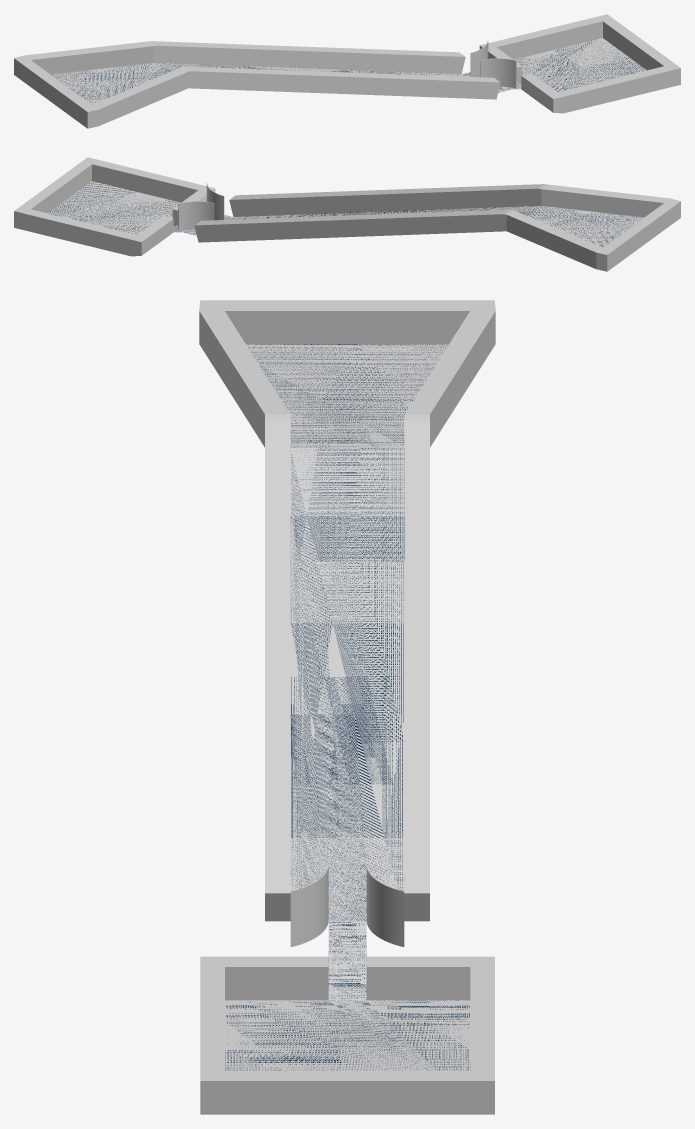
The model's file is Stage4.dae.
3 views of the same model, one above another, from view 1: azimuth 30°, elevation 25°; view 2: azimuth 150°, elevation 25°; view 3: azimuth 270°, elevation 25° (orthographic). The views are drawn at different scales.
Visible parts, largest first — view 1: SketchUp (×6); view 2: SketchUp (×6); view 3: SketchUp (×5).
Part boxes in pixels (x1,y1,x2,y2): SketchUp (×6): (14,14,680,128); SketchUp (×6): (14,157,680,271); SketchUp (×5): (199,300,495,1114).
Bounding box in the file's own units: 43.94 × 9.5 × 8.31.
